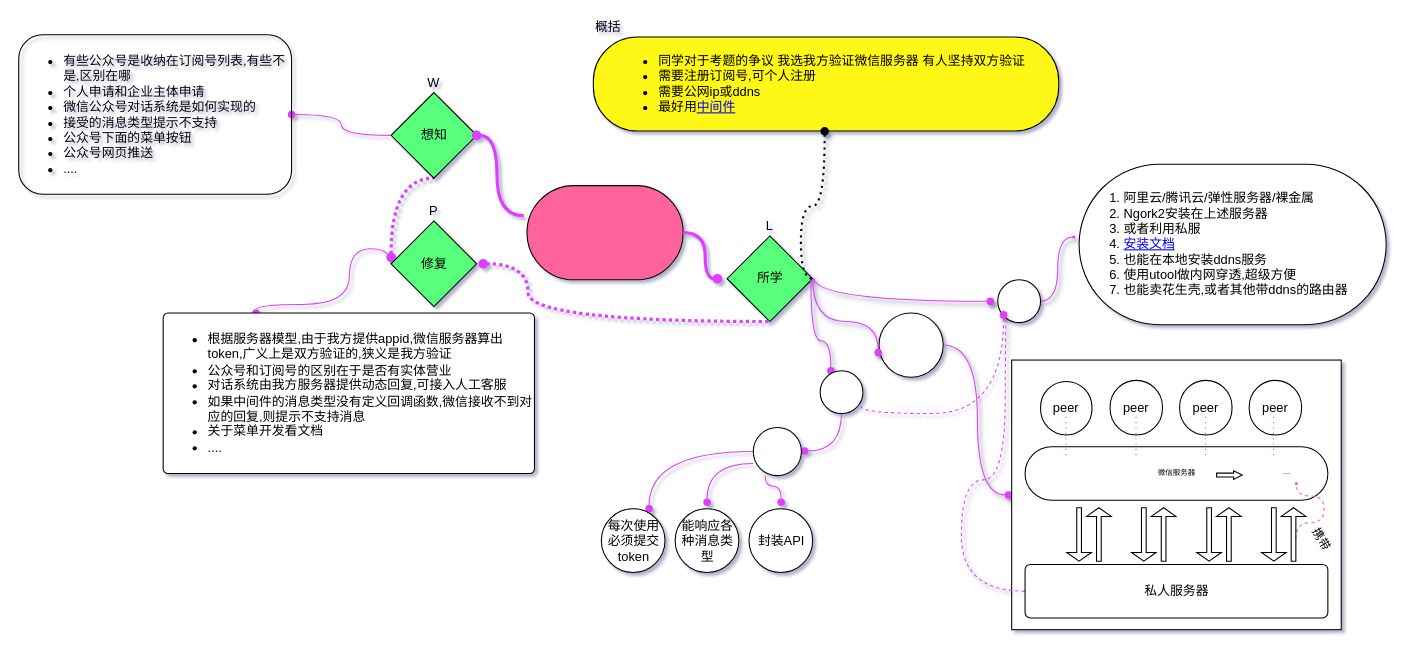
Image size: 1411x655. Some labels were removed from this diagram. The centre of each missing label's shape, as x and y in pixels:
wechat: the point at 776,451
中间件: the point at 841,392
公网ip: the point at 1019,301
微信公众号开发: the point at 604,232
微信服务器模型: the point at 910,344
